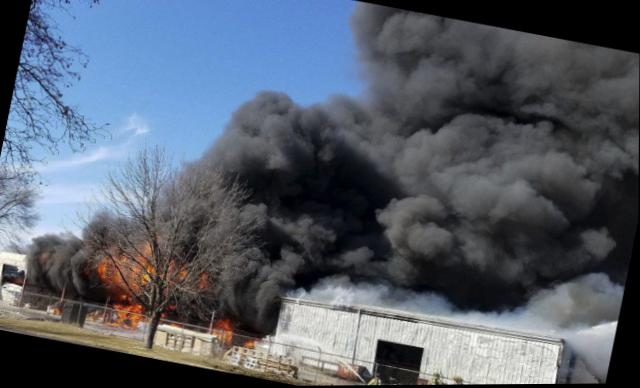fire: (98, 252, 209, 299), (111, 299, 143, 327), (141, 246, 161, 258), (218, 331, 234, 344)
smoke: (339, 8, 639, 310), (338, 255, 620, 343), (243, 81, 369, 189), (241, 174, 350, 297), (25, 235, 102, 299), (338, 1, 385, 85), (222, 286, 283, 332), (225, 104, 254, 174), (209, 129, 231, 171)
